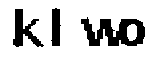k: (8, 5, 47, 52)
l: (49, 3, 67, 52)
o: (121, 17, 146, 50)
w: (76, 14, 121, 49)
